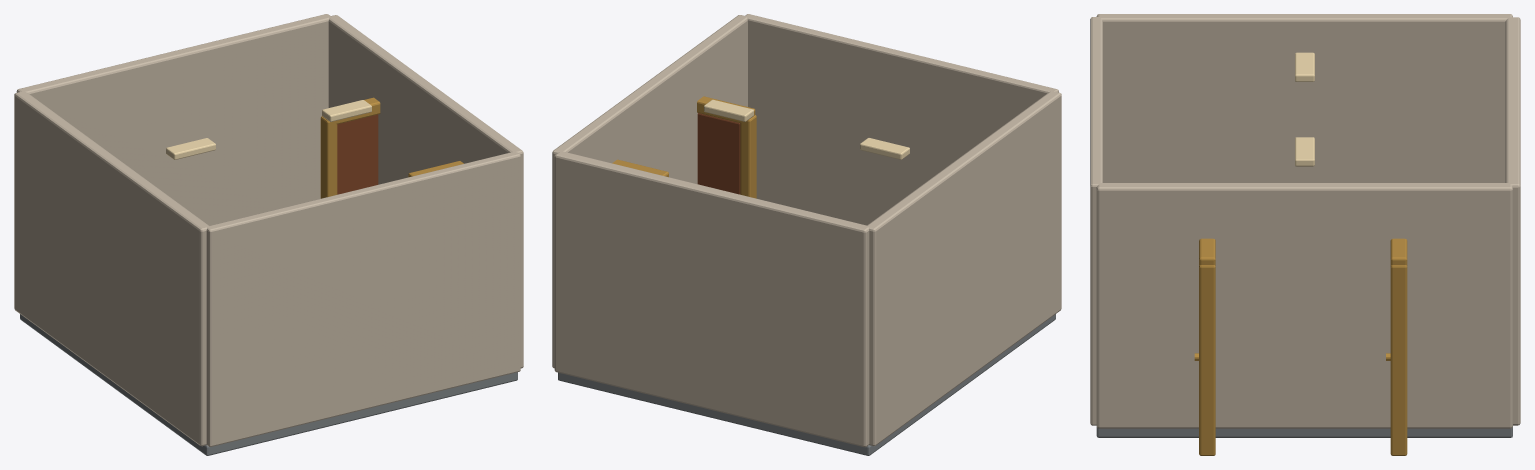
File: apartment_hall_short_a.glb
3 renders of one model, left to right at view 1: azimuth 30°, elevation 25°; view 2: azimuth 150°, elevation 25°; view 3: azimuth 270°, elevation 25°, orthographic. The views are drawn at different scales.
Visible parts, largest first — view 1: CUTAWAY_FRONT, SET_Wall_Left, SET_Wall_Back, SET_Wall_Right, SET_Floor, SET_Apartment_2_Door, SET_Apartment_2_Jamb_L, SET_LightFixture_L, SET_LightFixture_R; view 2: SET_Wall_Back, SET_Wall_Left, CUTAWAY_FRONT, SET_Wall_Right, SET_Floor, SET_Apartment_1_Door, SET_Apartment_1_Jamb_L, SET_LightFixture_R, SET_LightFixture_L; view 3: SET_Wall_Right, SET_Wall_Left, SET_Wall_Back, CUTAWAY_FRONT, SET_Floor, SET_Apartment_2_Jamb_R, SET_Apartment_1_Jamb_R, SET_LightFixture_R, SET_LightFixture_L, SET_Apartment_2_Header, SET_Apartment_1_Header.
Part boxes in pixels (bbox=[...]): CUTAWAY_FRONT: bbox=[206, 152, 520, 446]; SET_Wall_Left: bbox=[14, 91, 208, 446]; SET_Wall_Back: bbox=[16, 14, 330, 225]; SET_Wall_Right: bbox=[328, 15, 523, 368]; SET_Floor: bbox=[20, 314, 517, 455]; SET_Apartment_2_Door: bbox=[337, 114, 378, 194]; SET_Apartment_2_Jamb_L: bbox=[320, 116, 337, 198]; SET_LightFixture_L: bbox=[166, 138, 215, 159]; SET_LightFixture_R: bbox=[322, 100, 371, 121]; SET_Wall_Back: bbox=[554, 151, 869, 447]; SET_Wall_Left: bbox=[867, 91, 1061, 446]; CUTAWAY_FRONT: bbox=[745, 14, 1058, 225]; SET_Wall_Right: bbox=[552, 15, 747, 368]; SET_Floor: bbox=[558, 314, 1055, 455]; SET_Apartment_1_Door: bbox=[697, 113, 740, 194]; SET_Apartment_1_Jamb_L: bbox=[740, 115, 756, 198]; SET_LightFixture_R: bbox=[704, 99, 753, 121]; SET_LightFixture_L: bbox=[860, 138, 909, 159]; SET_Wall_Right: bbox=[1096, 183, 1512, 428]; SET_Wall_Left: bbox=[1096, 14, 1512, 182]; SET_Wall_Back: bbox=[1505, 17, 1520, 425]; CUTAWAY_FRONT: bbox=[1090, 17, 1102, 425]; SET_Floor: bbox=[1096, 427, 1512, 437]; SET_Apartment_2_Jamb_R: bbox=[1390, 265, 1407, 455]; SET_Apartment_1_Jamb_R: bbox=[1199, 265, 1215, 455]; SET_LightFixture_R: bbox=[1295, 137, 1314, 166]; SET_LightFixture_L: bbox=[1295, 52, 1314, 81]; SET_Apartment_2_Header: bbox=[1390, 238, 1407, 265]; SET_Apartment_1_Header: bbox=[1199, 238, 1215, 265].
Size of what is drawn, in the model's own units: 5.55 by 3.36 by 5.17.
